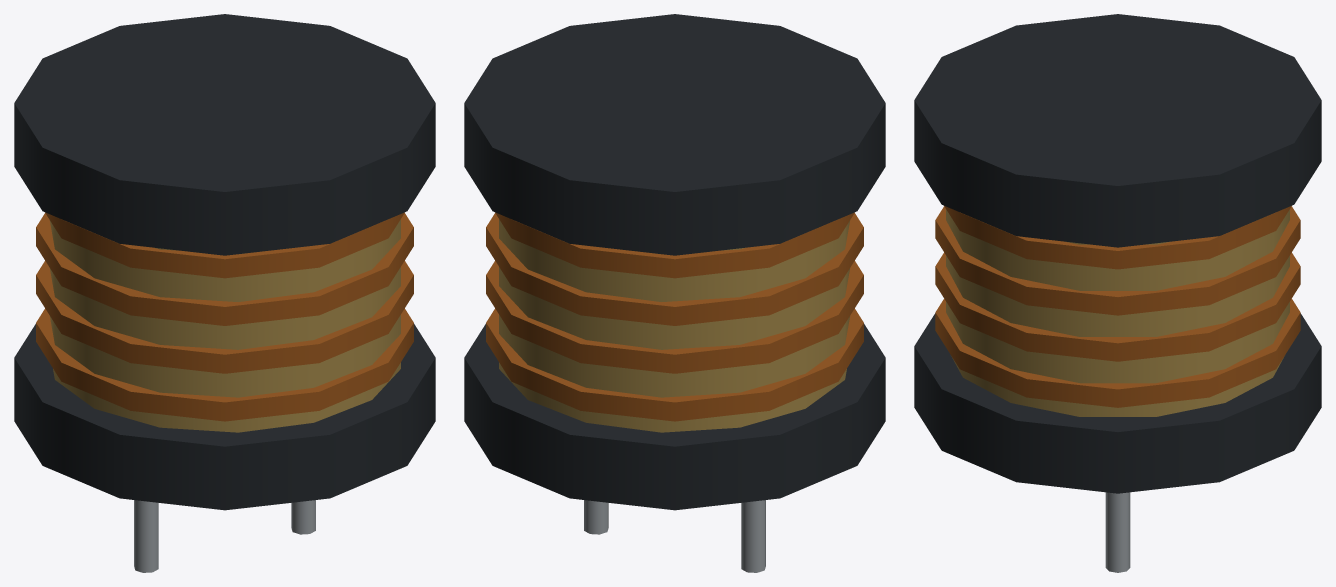
Rendered from cmp-inductor.glb.
The picture shows the model from 3 angles, left to right: view 1: azimuth 30°, elevation 25°; view 2: azimuth 150°, elevation 25°; view 3: azimuth 270°, elevation 25°; orthographic projection. The views are drawn at different scales.
Parts seen in each view (by area): view 1: STATIC_paint, STATIC_metal; view 2: STATIC_paint, STATIC_metal; view 3: STATIC_paint, STATIC_metal.
Boxes of the visible parts, x1,y1,x2,y2 form: STATIC_paint: [14, 14, 435, 510]; STATIC_metal: [36, 212, 413, 572]; STATIC_paint: [464, 14, 885, 510]; STATIC_metal: [486, 212, 863, 572]; STATIC_paint: [914, 14, 1321, 493]; STATIC_metal: [935, 205, 1300, 572].
Bounding box in the file's own units: 0.012 × 0.014 × 0.012.
